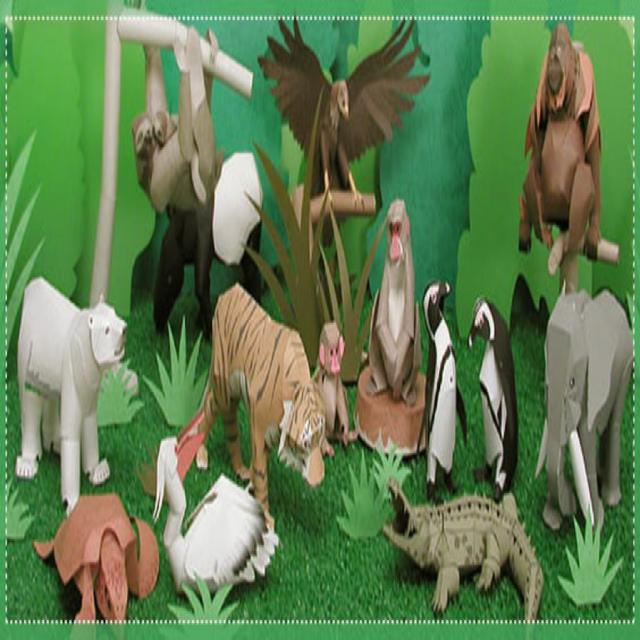elephant: (539, 286, 633, 536)
